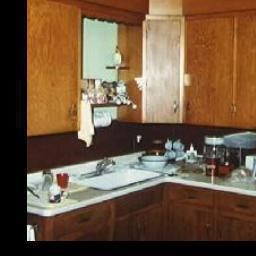Lavaplatos: (74, 158, 171, 202)
